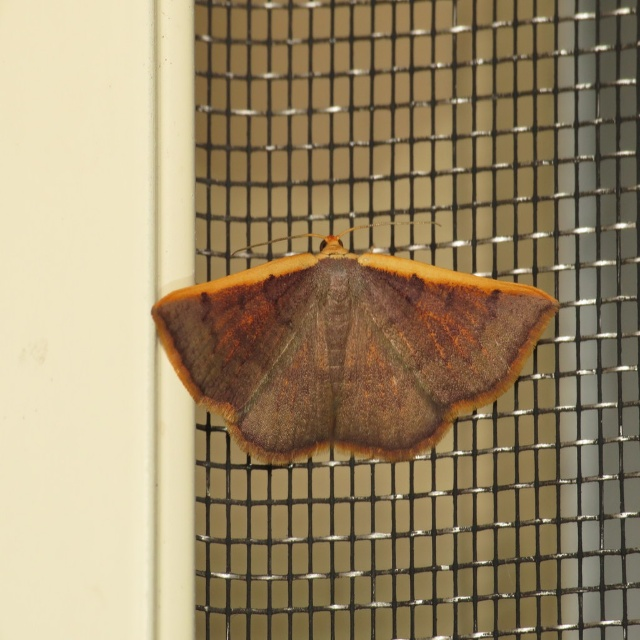Butterfly: (140, 248, 577, 485)
